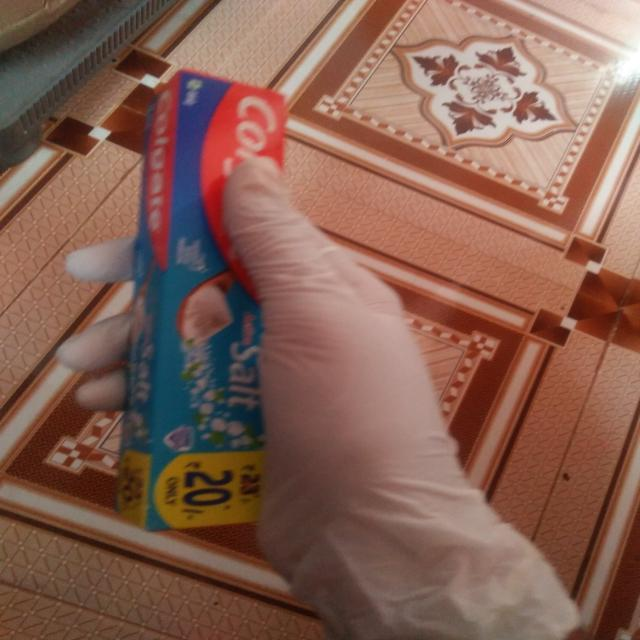glove_hand: (46, 155, 596, 637)
